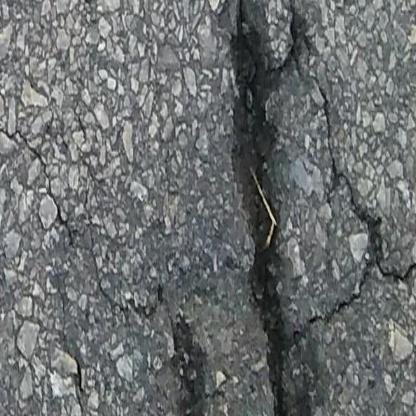Cracks: (192, 0, 346, 416), (247, 0, 416, 283), (238, 280, 406, 370), (121, 294, 230, 416)
